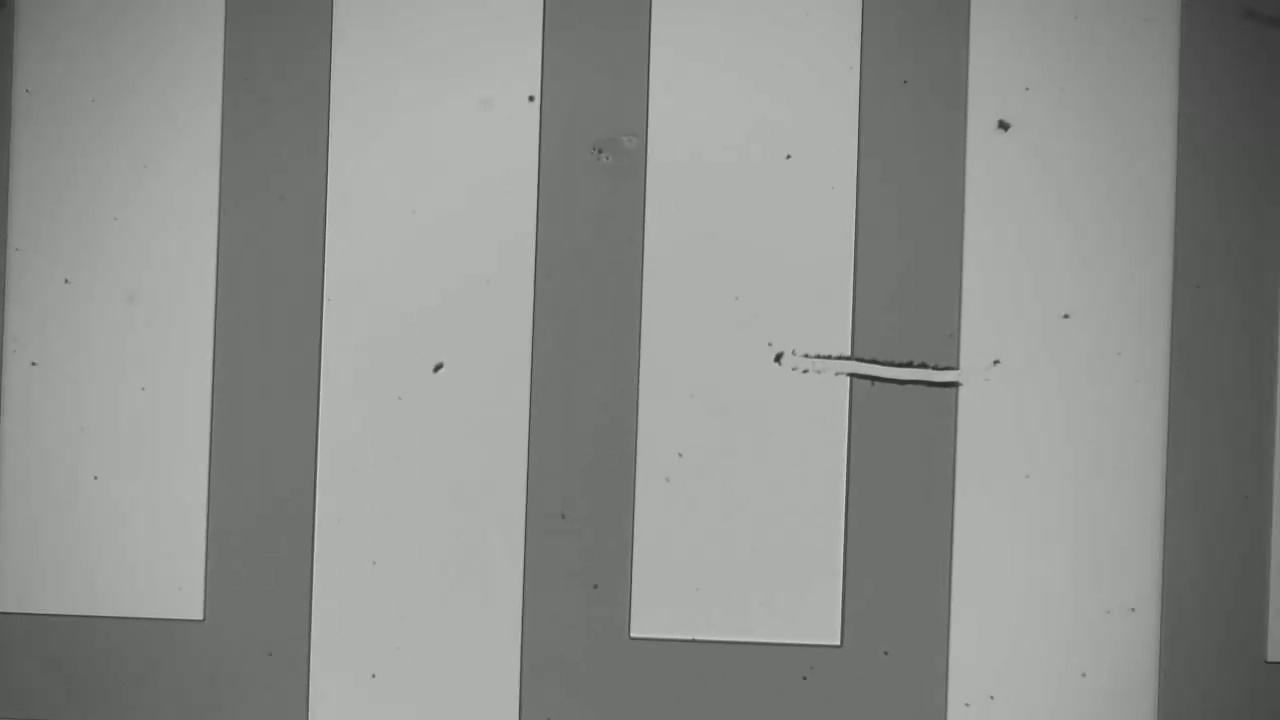Short_circuit: (817, 345, 984, 412)
